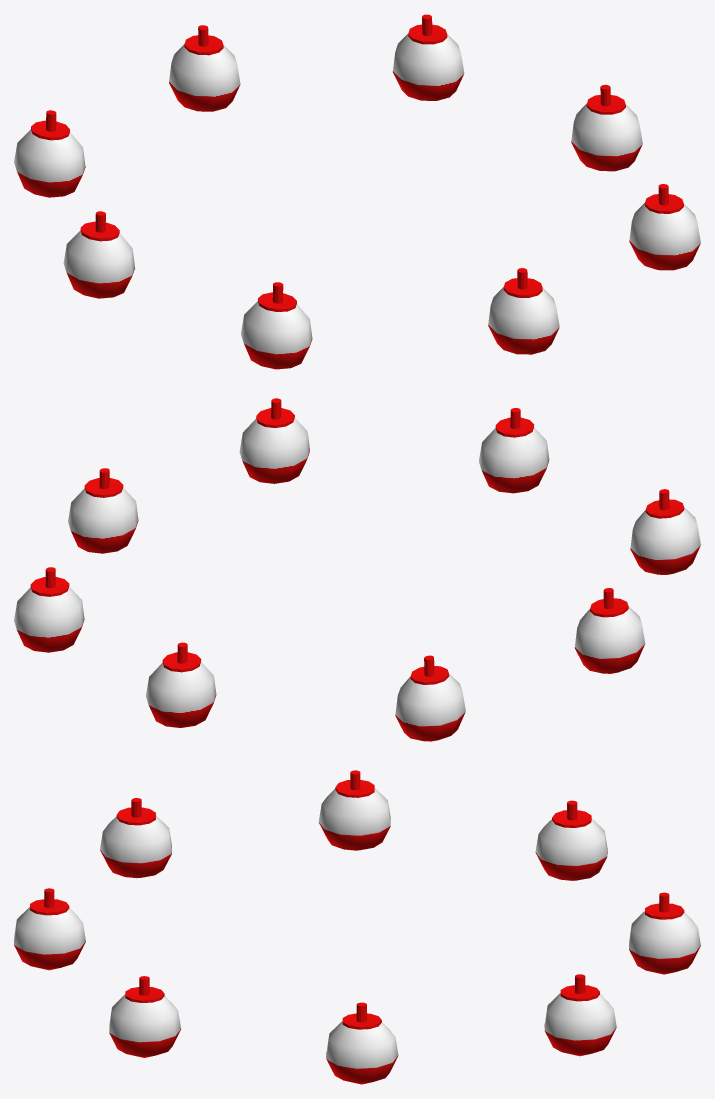
File: booie Ring.FBX
3 views of the same model, one above another, from view 1: azimuth 30°, elevation 25°; view 2: azimuth 150°, elevation 25°; view 3: azimuth 270°, elevation 25° (orthographic). The views are drawn at different scales.
Parts seen in each view (by area): view 1: Sphere016, Sphere018, Sphere019, Sphere015, Sphere020, Sphere017, Sphere023, Sphere022; view 2: Sphere020, Sphere022, Sphere023, Sphere017, Sphere018, Sphere016, Sphere015, Sphere019; view 3: Sphere018, Sphere017, Sphere020, Sphere015, Sphere019, Sphere023, Sphere022, Sphere016.
Boxes of the visible parts, left/top/right/bottom form: Sphere016: left=169, top=25, right=240, bottom=111; Sphere018: left=571, top=84, right=642, bottom=171; Sphere019: left=488, top=268, right=559, bottom=354; Sphere015: left=629, top=184, right=700, bottom=270; Sphere020: left=14, top=110, right=85, bottom=197; Sphere017: left=392, top=14, right=464, bottom=100; Sphere023: left=63, top=211, right=134, bottom=298; Sphere022: left=241, top=282, right=312, bottom=369; Sphere020: left=395, top=655, right=465, bottom=741; Sphere022: left=630, top=489, right=700, bottom=574; Sphere023: left=574, top=588, right=645, bottom=673; Sphere017: left=14, top=567, right=84, bottom=652; Sphere018: left=68, top=468, right=138, bottom=553; Sphere016: left=146, top=642, right=216, bottom=727; Sphere015: left=239, top=398, right=309, bottom=483; Sphere019: left=479, top=408, right=549, bottom=493; Sphere018: left=326, top=1002, right=398, bottom=1084; Sphere017: left=544, top=974, right=616, bottom=1056; Sphere020: left=535, top=800, right=607, bottom=880; Sphere015: left=109, top=976, right=180, bottom=1057; Sphere019: left=14, top=888, right=85, bottom=970; Sphere023: left=318, top=770, right=390, bottom=850; Sphere022: left=100, top=798, right=171, bottom=878; Sphere016: left=629, top=892, right=700, bottom=974.
Bounding box in the file's own units: 118 × 16.71 × 131.
1 material, 1 textured.
